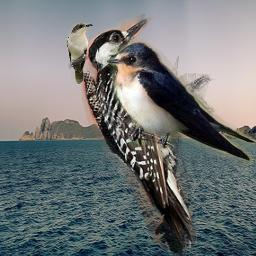Cuckoo: (67, 23, 93, 85)
Swallow: (105, 39, 256, 166)
Woodpecker: (71, 10, 230, 256)
